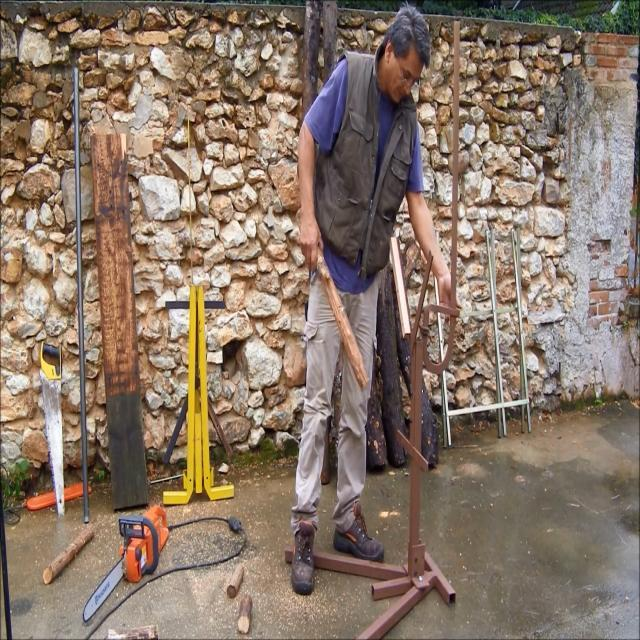Chainsaw: (58, 477, 184, 640)
